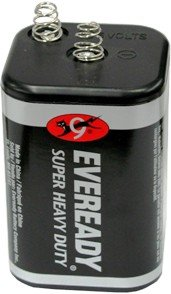6V: (11, 3, 164, 287)
